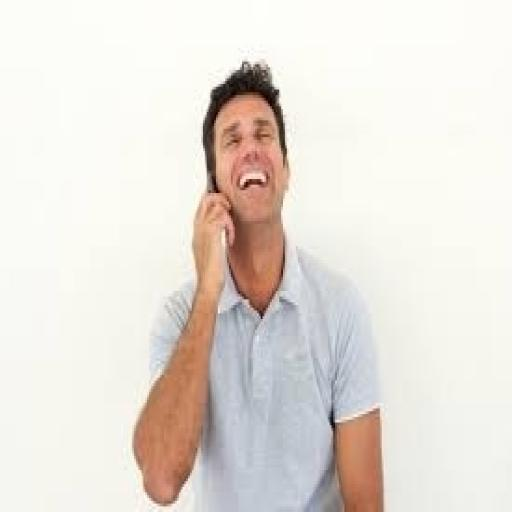laughing: (127, 50, 389, 510)
